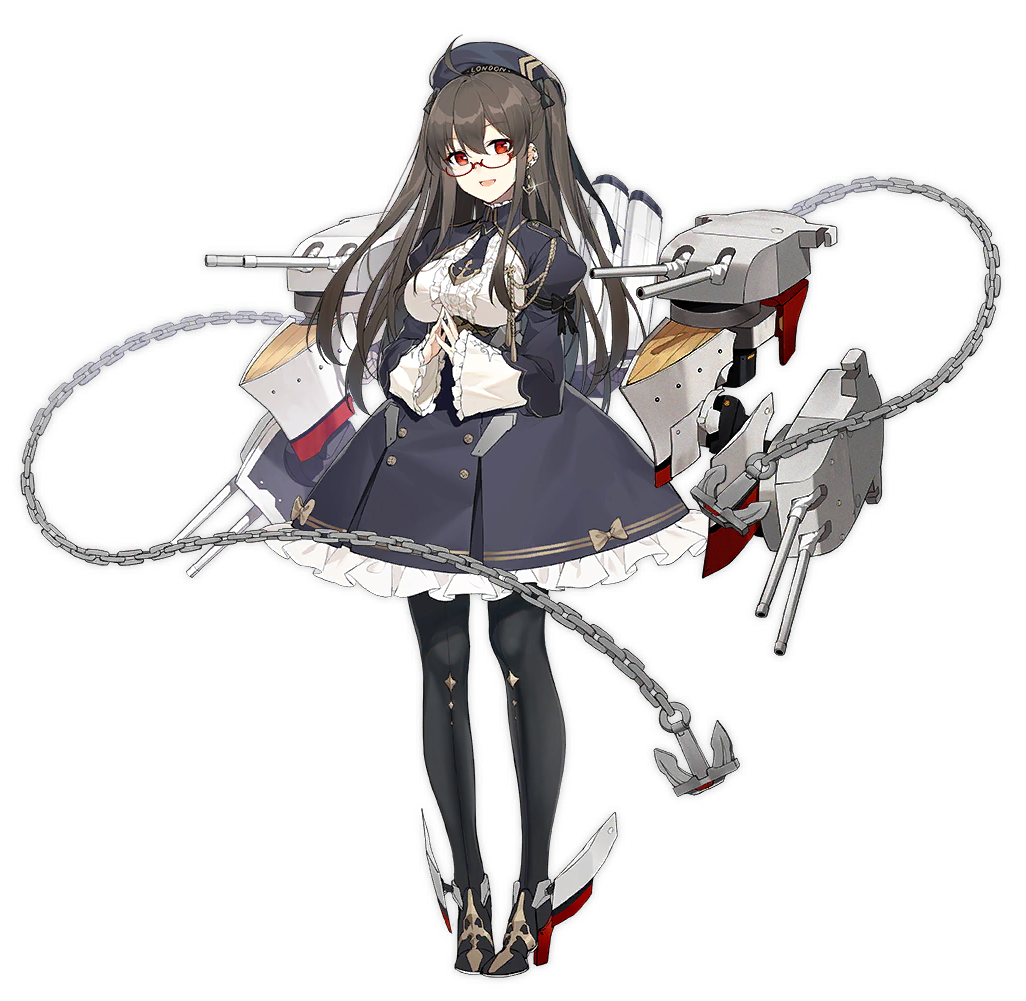person: (174, 39, 781, 756)
